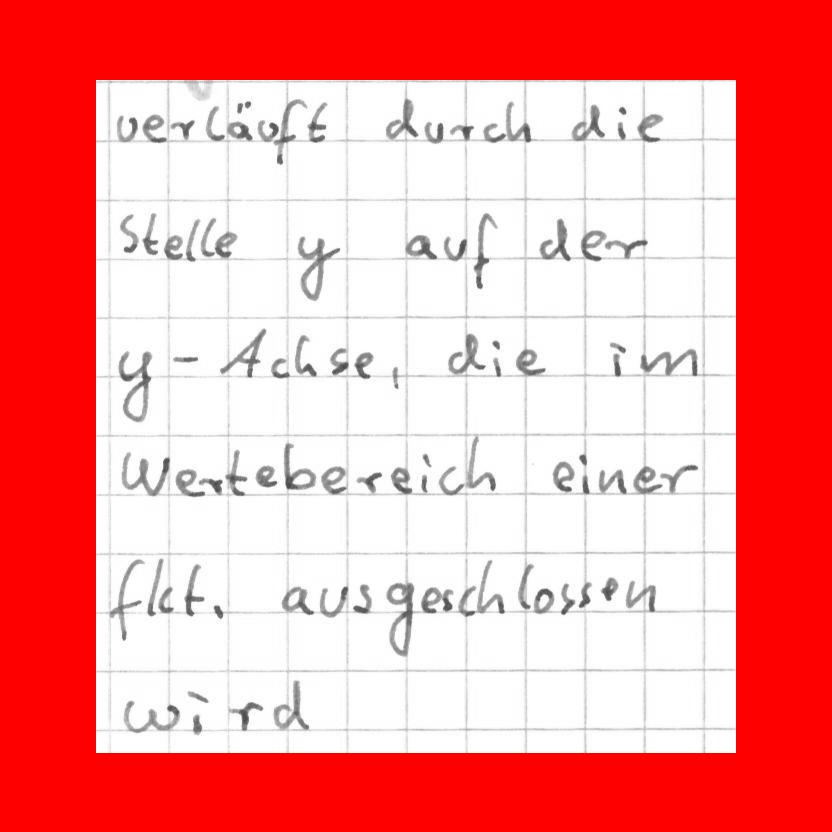Char: (106, 557, 148, 645), (293, 232, 342, 302), (116, 348, 154, 424), (218, 323, 267, 381), (383, 578, 417, 661), (118, 448, 170, 496), (272, 98, 307, 166), (470, 209, 499, 291), (118, 696, 181, 733), (271, 679, 312, 731), (639, 346, 700, 379), (475, 557, 508, 618), (380, 96, 421, 145), (446, 330, 488, 376), (144, 553, 174, 617), (281, 441, 318, 492), (465, 435, 498, 492), (178, 558, 206, 619), (537, 214, 572, 262), (623, 573, 664, 613), (568, 102, 608, 142), (184, 686, 213, 736), (503, 99, 533, 143), (659, 461, 699, 494), (278, 583, 316, 617), (226, 98, 254, 143), (305, 99, 333, 144), (227, 697, 263, 732), (317, 582, 350, 620), (603, 235, 652, 260), (222, 447, 247, 495), (172, 466, 207, 499), (511, 345, 548, 376), (513, 558, 534, 612), (316, 463, 350, 495), (604, 338, 630, 379), (293, 331, 316, 377), (401, 232, 438, 260), (117, 211, 141, 253), (202, 102, 227, 142), (140, 112, 170, 145), (635, 111, 665, 143), (631, 464, 664, 493), (349, 579, 376, 614), (595, 466, 628, 494), (530, 583, 556, 617), (415, 450, 435, 494), (168, 113, 197, 143), (353, 469, 385, 496), (579, 228, 605, 261), (550, 457, 575, 491), (388, 465, 415, 495), (454, 583, 477, 618), (327, 345, 352, 377), (115, 111, 139, 144), (142, 211, 160, 255), (489, 337, 507, 380), (598, 573, 622, 605), (213, 230, 239, 259), (435, 463, 460, 493), (418, 582, 440, 616), (441, 234, 468, 261), (353, 349, 377, 379), (421, 117, 447, 144), (250, 462, 275, 490), (185, 217, 200, 263), (200, 216, 216, 259), (558, 578, 575, 618), (253, 116, 279, 142), (447, 119, 476, 142), (162, 232, 185, 261), (577, 451, 590, 499), (614, 105, 631, 141), (196, 474, 225, 495), (575, 576, 592, 610), (482, 119, 505, 144), (267, 354, 290, 379), (169, 350, 201, 367), (385, 361, 401, 390), (210, 596, 227, 623), (440, 585, 455, 614)
